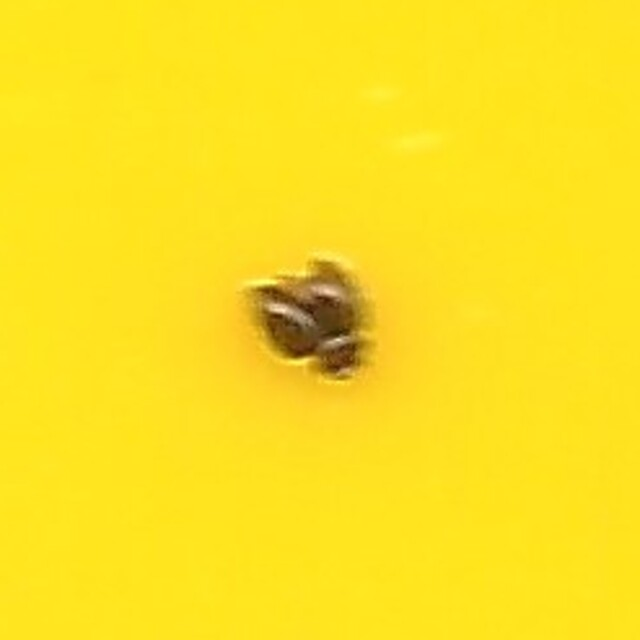Coleoptera: (259, 247, 381, 393)
